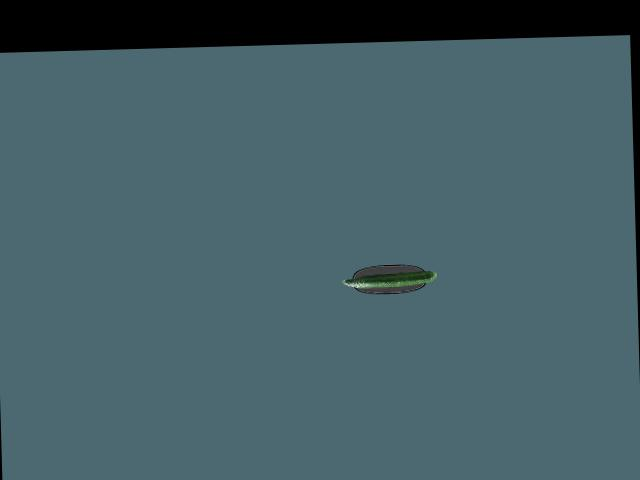cucumber: (341, 270, 436, 288)
